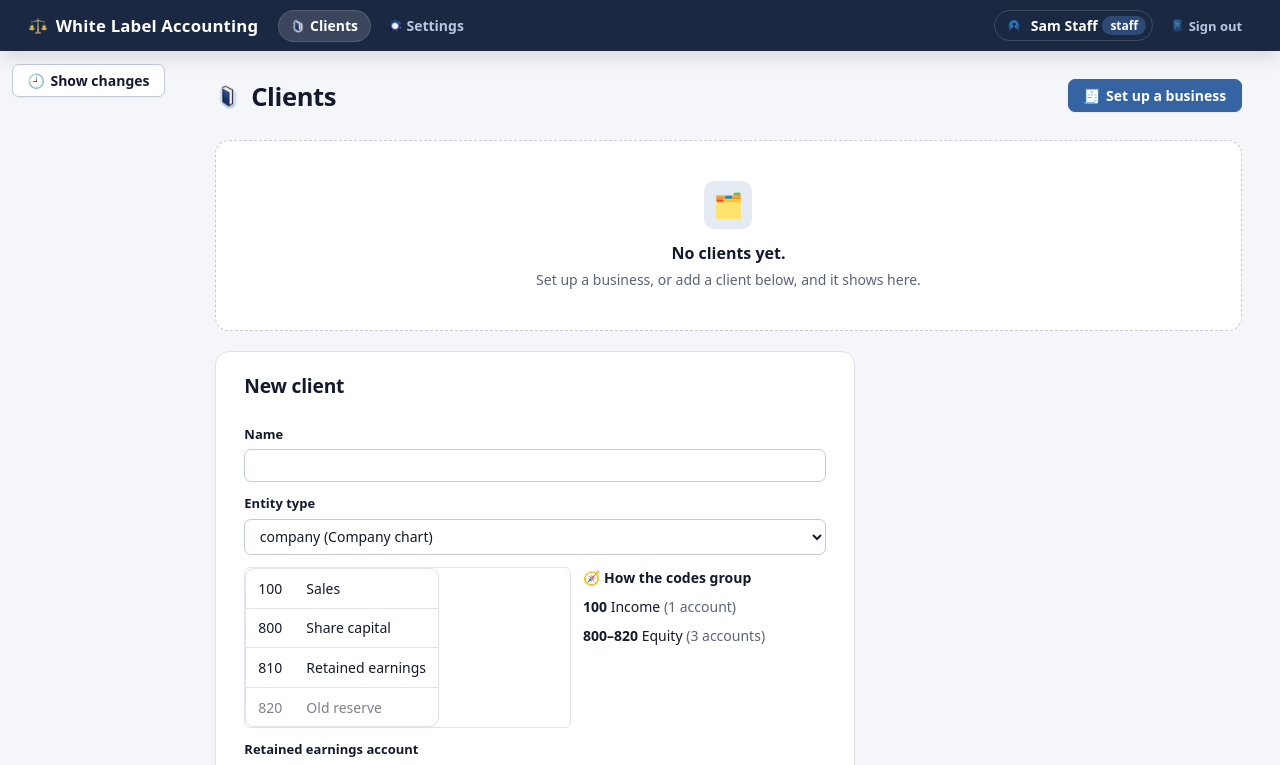
clients › shows the server's rejection
Type "x" into the field labelled "Name" at (535, 466), box [244,449,826,482]
(page scrolled)
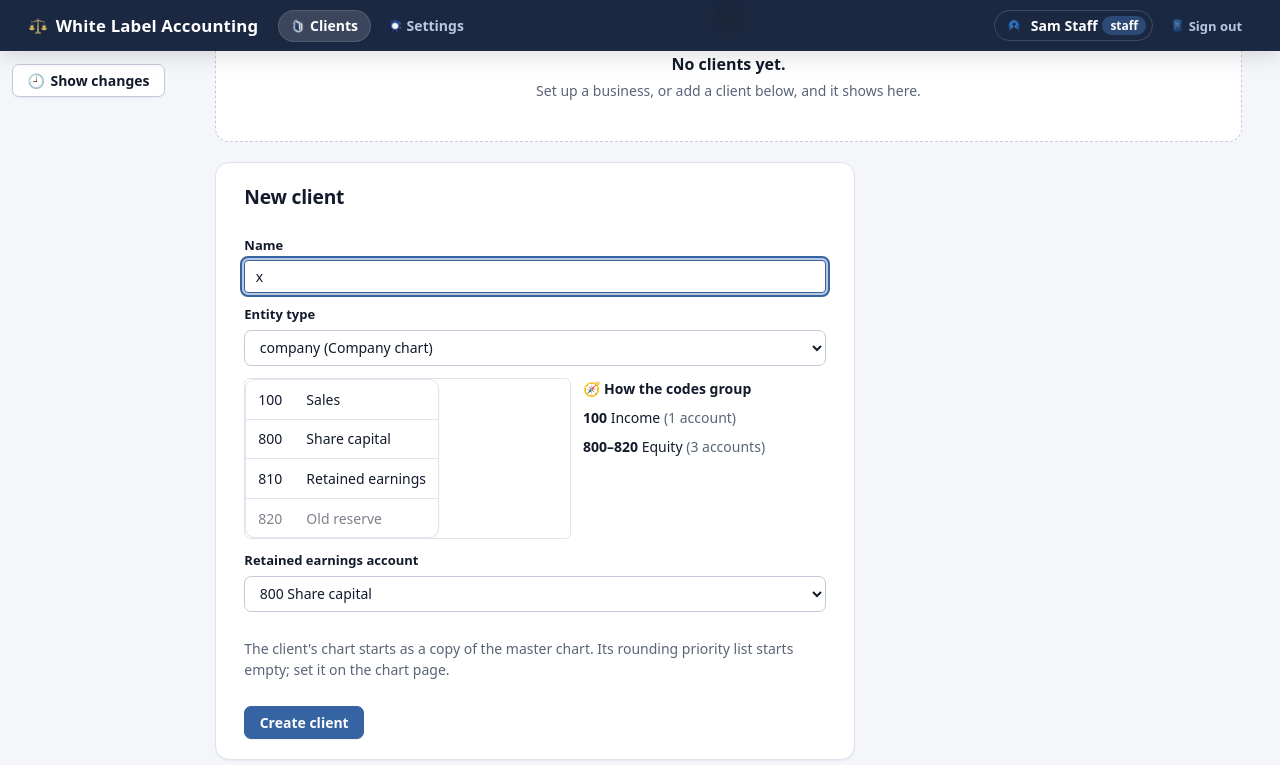
Click the button "Create client" at (304, 723), box [244,706,364,739]
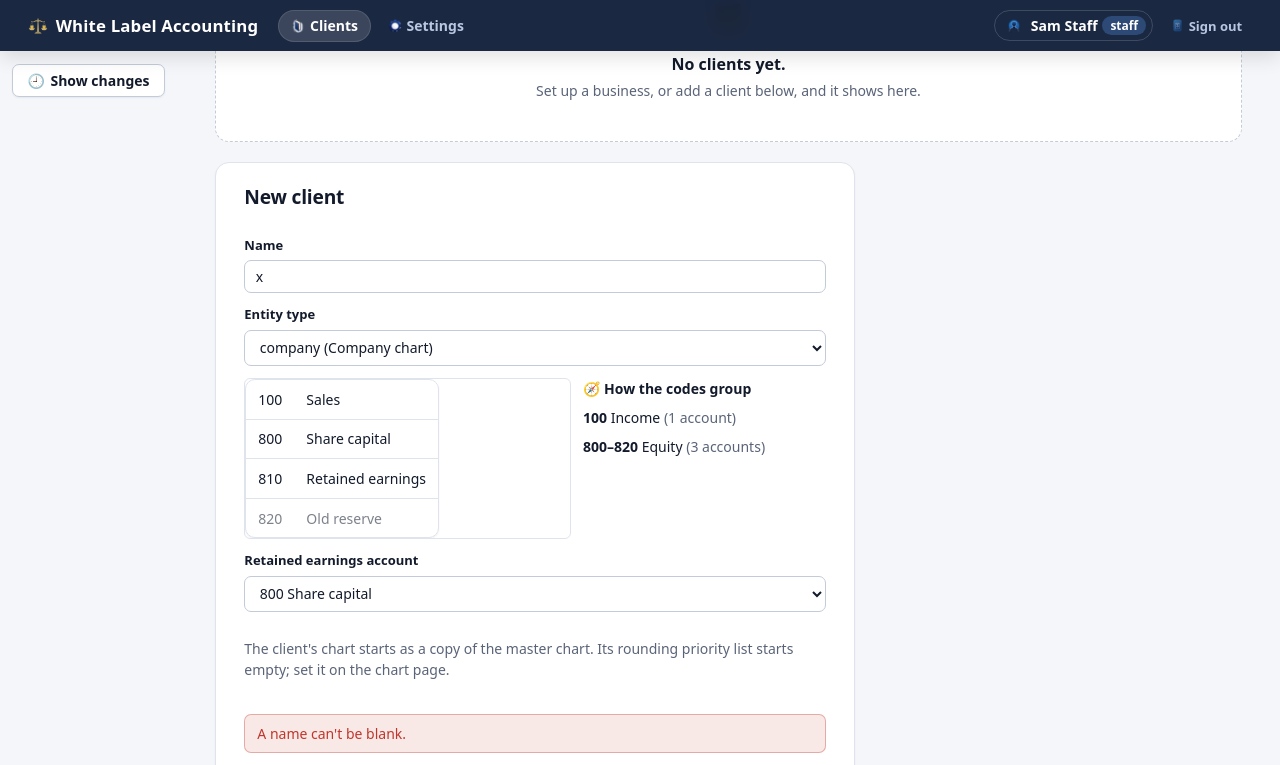
expect the text "A name can't be blank." is shown: met, box [257,724,406,743]
